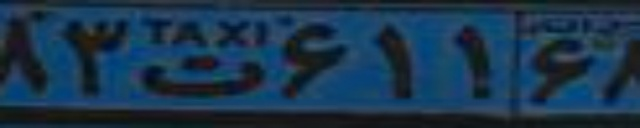1: (448, 27, 498, 99), (373, 26, 415, 96)
3: (58, 15, 131, 96)
6: (274, 21, 349, 100), (523, 37, 593, 102)
8: (0, 16, 50, 95), (607, 36, 638, 104)
te: (138, 54, 266, 98)
